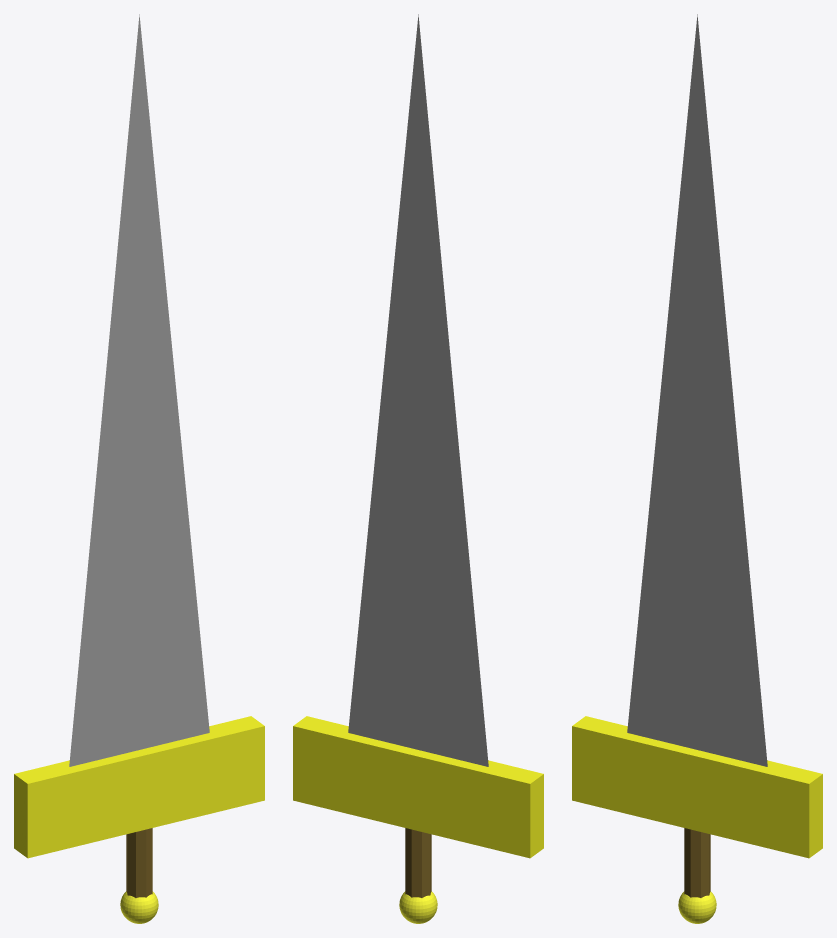
File: Espada.fbx
The picture shows the model from 3 angles, left to right: view 1: azimuth 30°, elevation 25°; view 2: azimuth 150°, elevation 25°; view 3: azimuth 330°, elevation 25°; orthographic projection.
Parts seen in each view (by area): view 1: Esfera UV; view 2: Esfera UV; view 3: Esfera UV.
Boxes of the visible parts, x1=… form: Esfera UV: x1=14, y1=14, x2=264, y2=923; Esfera UV: x1=293, y1=14, x2=543, y2=923; Esfera UV: x1=572, y1=14, x2=822, y2=923.
Size of the model in its own units: 1.5 by 5.49 by 0.21.
